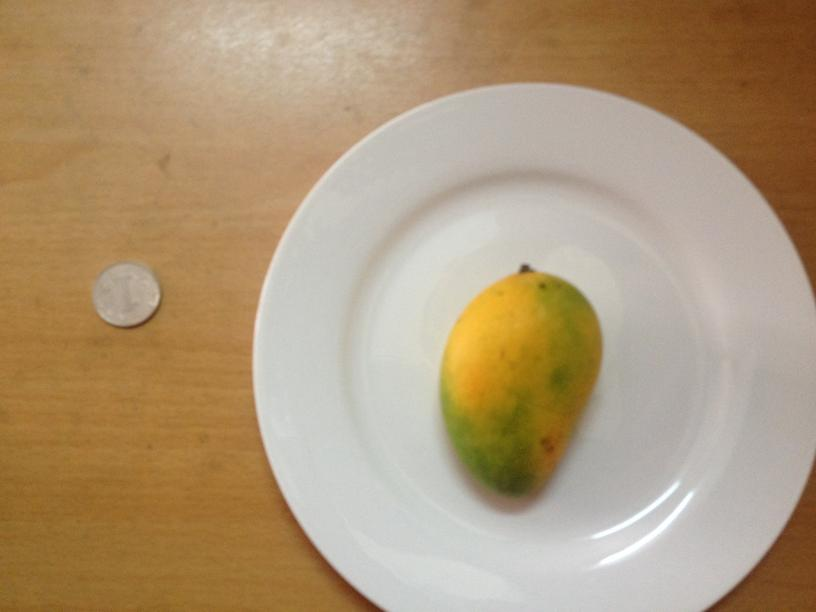coin: (90, 263, 161, 326)
mango: (440, 266, 603, 497)
